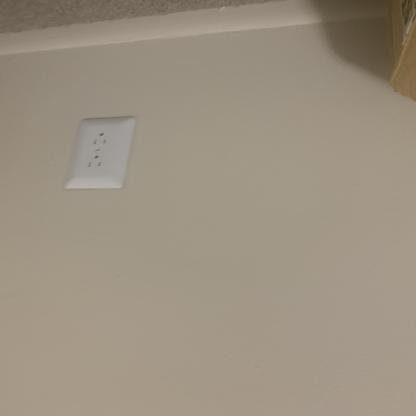OUTLET: (63, 118, 134, 190)
